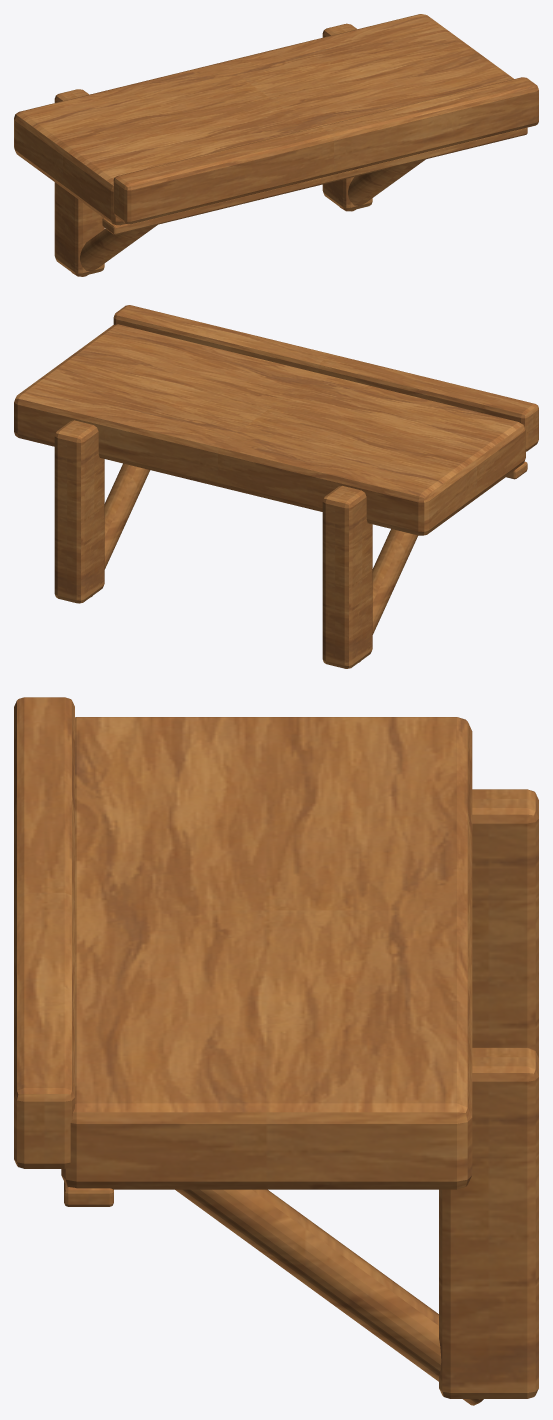
The model's file is WC_CAFE_Shelf_Short_A.glb.
The picture shows the model from 3 angles, top to bottom: view 1: azimuth 30°, elevation 25°; view 2: azimuth 150°, elevation 25°; view 3: azimuth 270°, elevation 25°; orthographic projection. The views are drawn at different scales.
Parts seen in each view (by area): view 1: WC_CAFE_Shelf_Short_A_PolishedRenderMesh; view 2: WC_CAFE_Shelf_Short_A_PolishedRenderMesh; view 3: WC_CAFE_Shelf_Short_A_PolishedRenderMesh.
Part boxes in pixels (box(x1,y1,x2,y2)): WC_CAFE_Shelf_Short_A_PolishedRenderMesh: box(14, 14, 538, 276); WC_CAFE_Shelf_Short_A_PolishedRenderMesh: box(14, 305, 538, 668); WC_CAFE_Shelf_Short_A_PolishedRenderMesh: box(14, 697, 538, 1405).
Bounding box in the file's own units: 0.85 × 0.3778 × 0.4725.
3 materials, 3 textured.
